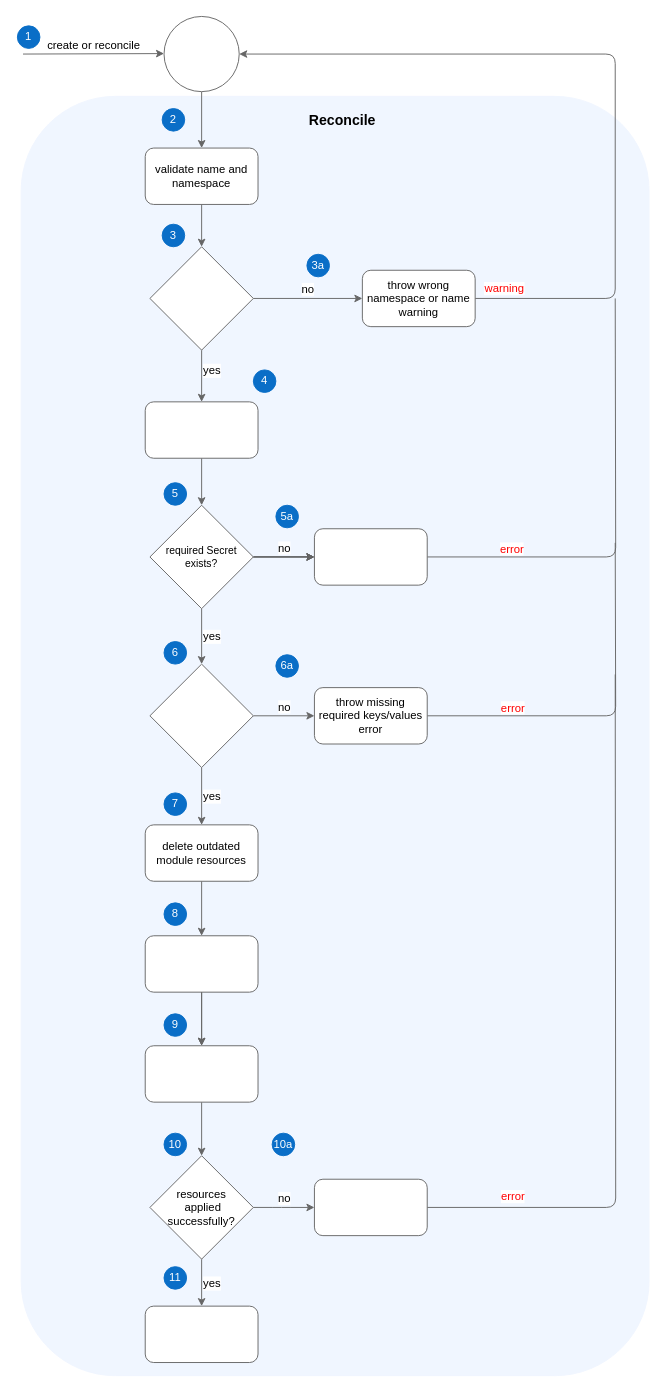
Some shapes in this 666 by 1392 pixel diagram are drawn without their labels. Here are the shapes that lost their labels. From the top down, the centre of each, then its label:
[201,54]: BtpOperator CR
[201,298]: valid name and namespace?
[201,429]: add finalizer
[370,556]: throw missing required Secret error
[201,715]: Secret is correct?
[201,963]: prepare current module resources (add labels and overrides)
[201,1073]: apply module resources
[370,1207]: throw check for module resources readiness timeout error
[201,1334]: set Ready state in CR
